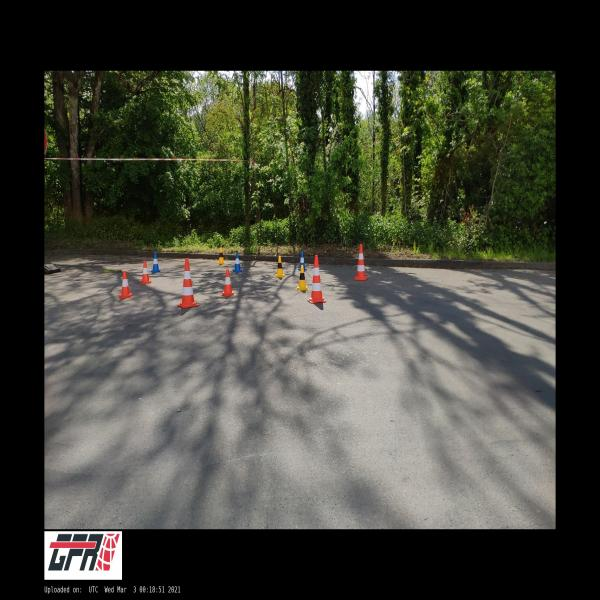blue_cone: (232, 254, 242, 272), (152, 253, 160, 272), (298, 252, 306, 270)
large_orange_cone: (178, 258, 199, 308), (308, 256, 326, 304), (354, 238, 366, 282)
orange_cone: (220, 270, 236, 296), (119, 271, 133, 298), (139, 261, 152, 284)
yellow_cone: (296, 265, 310, 291), (274, 256, 285, 278), (218, 248, 225, 264)
